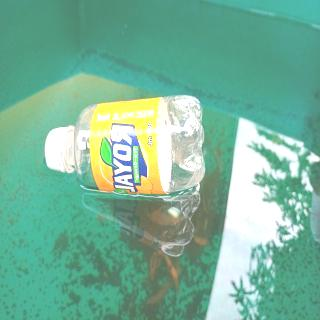bottle: (44, 91, 206, 198)
